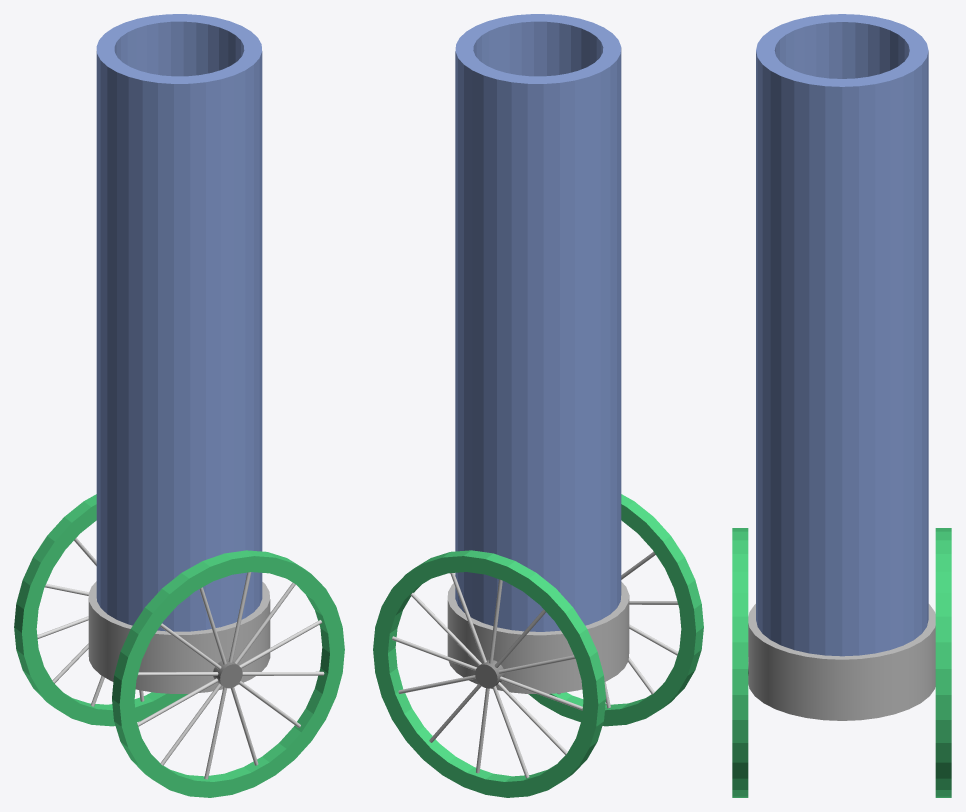
File: tempCannon.gltf
The picture shows the model from 3 angles, left to right: view 1: azimuth 30°, elevation 25°; view 2: azimuth 150°, elevation 25°; view 3: azimuth 270°, elevation 25°; orthographic projection. The views are drawn at different scales.
Parts seen in each view (by area): view 1: barrel, wheelL, receiver, wheelR, spokeR (×6), axle; view 2: barrel, wheelR, receiver, wheelL, spokeR (×6), axle; view 3: barrel, receiver, wheelR, wheelL.
Boxes of the visible parts, <box> form: barrel: <box>96,14,262,631</box>; wheelL: <box>112,550,344,797</box>; receiver: <box>88,581,270,693</box>; wheelR: <box>14,494,187,726</box>; spokeR (×6): <box>137,572,324,779</box>; axle: <box>213,659,242,688</box>; barrel: <box>455,14,621,631</box>; wheelR: <box>373,550,605,797</box>; receiver: <box>447,582,629,693</box>; wheelL: <box>528,494,703,726</box>; spokeR (×6): <box>392,573,582,778</box>; axle: <box>475,659,504,688</box>; barrel: <box>756,14,928,656</box>; receiver: <box>748,604,935,720</box>; wheelR: <box>935,528,951,797</box>; wheelL: <box>732,528,748,797</box>.
Size of the model in its own units: 4 by 12 by 3.25.
